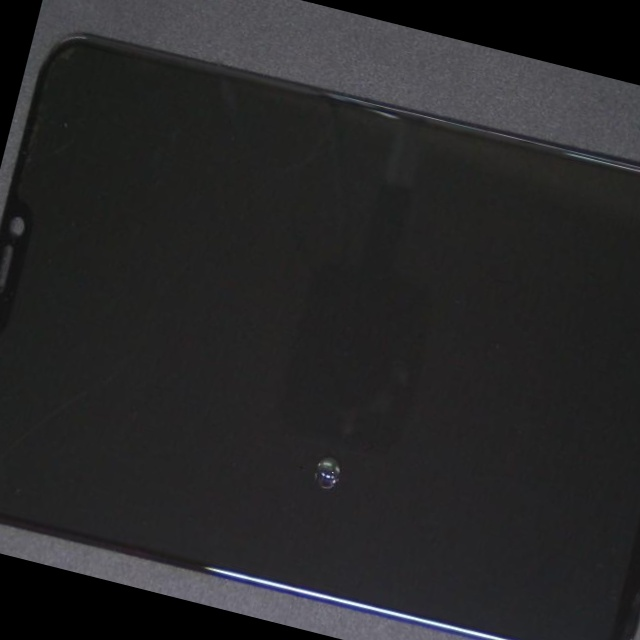oil: (74, 176, 550, 640)
